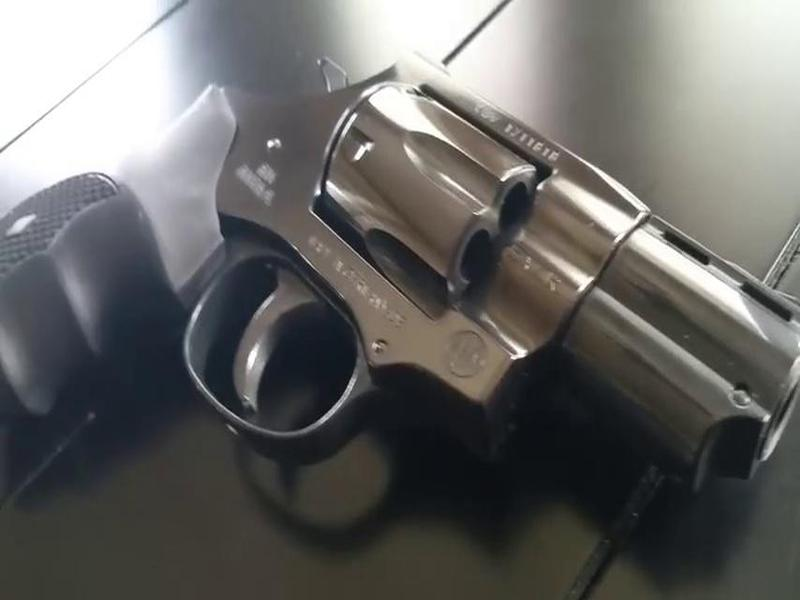Revolver: (70, 38, 800, 532)
